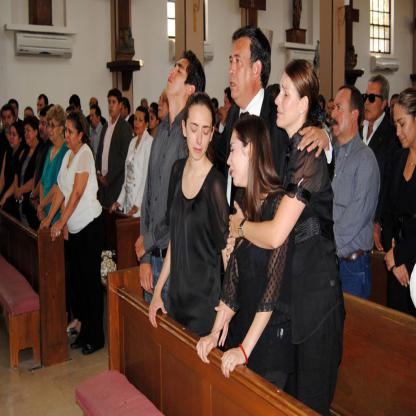face: (230, 46, 256, 98), (276, 77, 302, 128), (187, 110, 212, 161), (229, 137, 250, 186), (395, 108, 416, 149), (167, 59, 192, 91), (333, 95, 352, 137), (366, 86, 384, 119), (66, 125, 80, 149), (158, 92, 170, 118), (48, 117, 60, 140), (3, 112, 15, 132), (135, 113, 146, 134), (40, 118, 51, 138), (109, 98, 120, 117), (25, 125, 36, 143), (391, 102, 401, 121), (224, 97, 233, 117), (10, 130, 20, 147), (26, 111, 35, 127), (91, 111, 99, 127), (38, 101, 46, 117), (10, 104, 18, 120), (148, 114, 157, 128), (119, 104, 127, 119), (329, 103, 335, 119), (91, 100, 97, 112), (142, 103, 148, 114)
